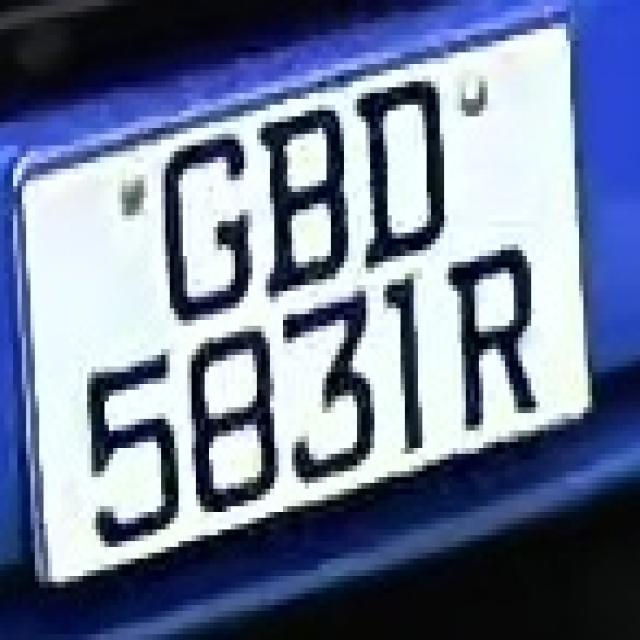1: (388, 250, 436, 466)
3: (270, 291, 379, 500)
5: (82, 326, 192, 564)
8: (161, 332, 283, 518)
B: (257, 87, 353, 291)
D: (344, 70, 453, 273)
G: (144, 116, 252, 314)
R: (444, 227, 544, 465)
